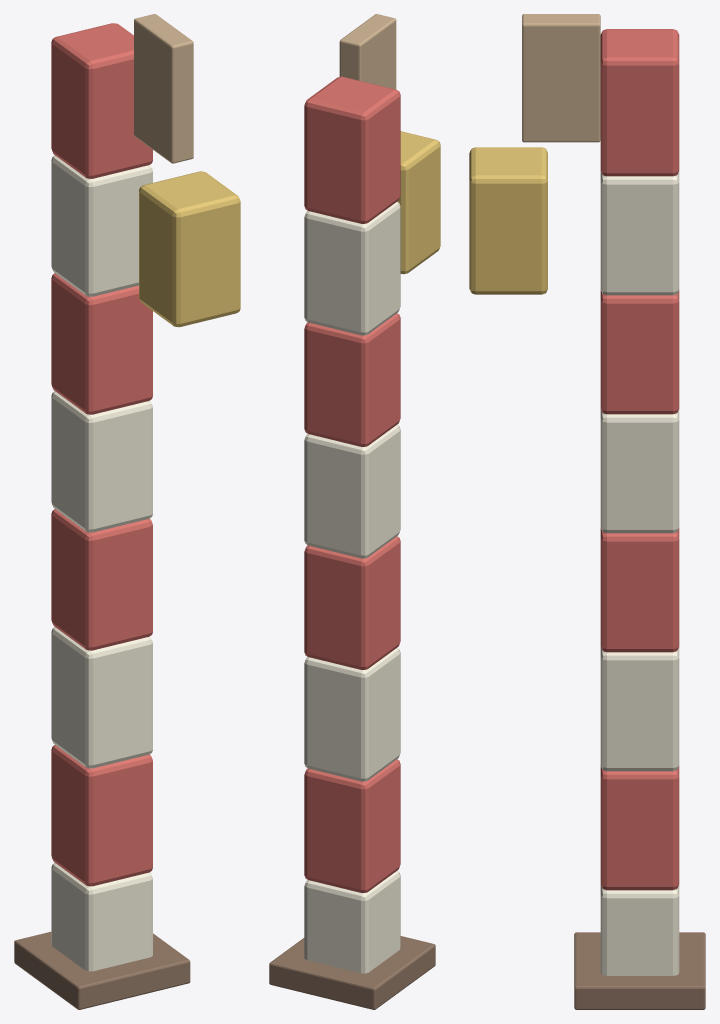
The model's file is surveyor_pole.glb.
3 views of the same model, side by side, from view 1: azimuth 30°, elevation 25°; view 2: azimuth 150°, elevation 25°; view 3: azimuth 270°, elevation 25° (orthographic). The views are drawn at different scales.
Parts seen in each view (by area): view 1: Plumb_bob, Pole_band_7, Pole_band_3, Pole_band_4, Pole_band_1, Pole_band_2, Pole_band_5, Pole_band_6, Pole_band_0, Plumb_strap, Pole_mud; view 2: Pole_band_7, Pole_band_2, Pole_band_5, Pole_band_1, Pole_band_3, Pole_band_4, Pole_band_6, Pole_band_0, Pole_mud, Plumb_bob, Plumb_strap; view 3: Pole_band_7, Plumb_bob, Plumb_strap, Pole_band_1, Pole_band_3, Pole_band_4, Pole_band_5, Pole_band_6, Pole_band_2, Pole_band_0, Pole_mud.
Boxes of the visible parts, <box> form: Plumb_bob: <box>139,171,240,327</box>; Pole_band_7: <box>51,23,152,178</box>; Pole_band_3: <box>51,509,152,650</box>; Pole_band_4: <box>51,391,152,532</box>; Pole_band_1: <box>51,745,152,886</box>; Pole_band_2: <box>51,627,152,768</box>; Pole_band_5: <box>51,273,152,414</box>; Pole_band_6: <box>51,155,152,296</box>; Pole_band_0: <box>51,863,152,971</box>; Plumb_strap: <box>134,14,193,163</box>; Pole_mud: <box>14,931,190,1009</box>; Pole_band_7: <box>304,76,400,223</box>; Pole_band_2: <box>304,648,400,781</box>; Pole_band_5: <box>304,313,400,446</box>; Pole_band_1: <box>304,759,400,892</box>; Pole_band_3: <box>304,536,400,669</box>; Pole_band_4: <box>304,424,400,558</box>; Pole_band_6: <box>304,201,400,335</box>; Pole_band_0: <box>304,871,400,973</box>; Pole_mud: <box>269,936,435,1009</box>; Plumb_bob: <box>397,131,440,274</box>; Plumb_strap: <box>339,14,396,89</box>; Pole_band_7: <box>600,29,679,176</box>; Plumb_bob: <box>469,147,547,294</box>; Plumb_strap: <box>522,14,600,142</box>; Pole_band_1: <box>600,766,679,890</box>; Pole_band_3: <box>600,528,679,652</box>; Pole_band_4: <box>600,409,679,533</box>; Pole_band_5: <box>600,290,679,414</box>; Pole_band_6: <box>600,171,679,295</box>; Pole_band_2: <box>600,647,679,771</box>; Pole_band_0: <box>600,885,679,975</box>; Pole_mud: <box>574,932,705,1009</box>.
Size of the model in its own units: 0.1 by 0.83 by 0.18.
